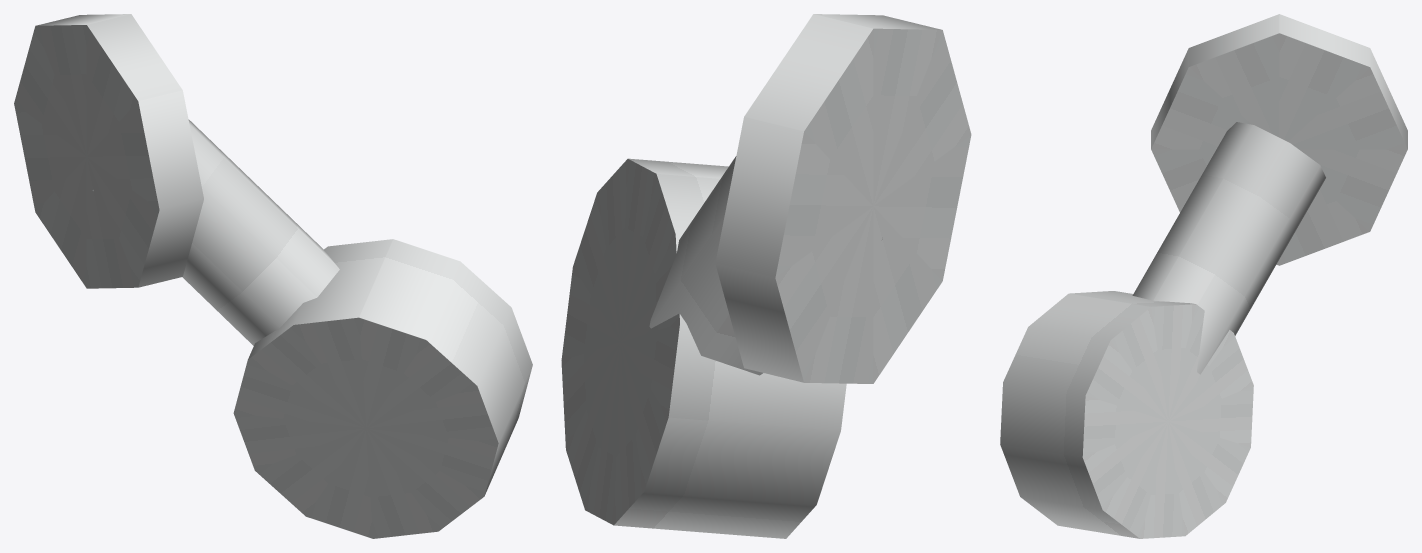
File: nycsignalarm_stub_179.obj
3 renders of one model, left to right at view 1: azimuth 30°, elevation 25°; view 2: azimuth 150°, elevation 25°; view 3: azimuth 270°, elevation 25°, orthographic. The views are drawn at different scales.
Visible parts, largest first — view 1: nycsignalarm_stub_179; view 2: nycsignalarm_stub_179; view 3: nycsignalarm_stub_179.
Boxes of the visible parts, x1,y1,x2,y2 form: nycsignalarm_stub_179: (14,14,532,538); nycsignalarm_stub_179: (561,14,971,538); nycsignalarm_stub_179: (1000,14,1407,538).
Size of the model in its own units: 0.4652 by 0.645 by 0.5558.
